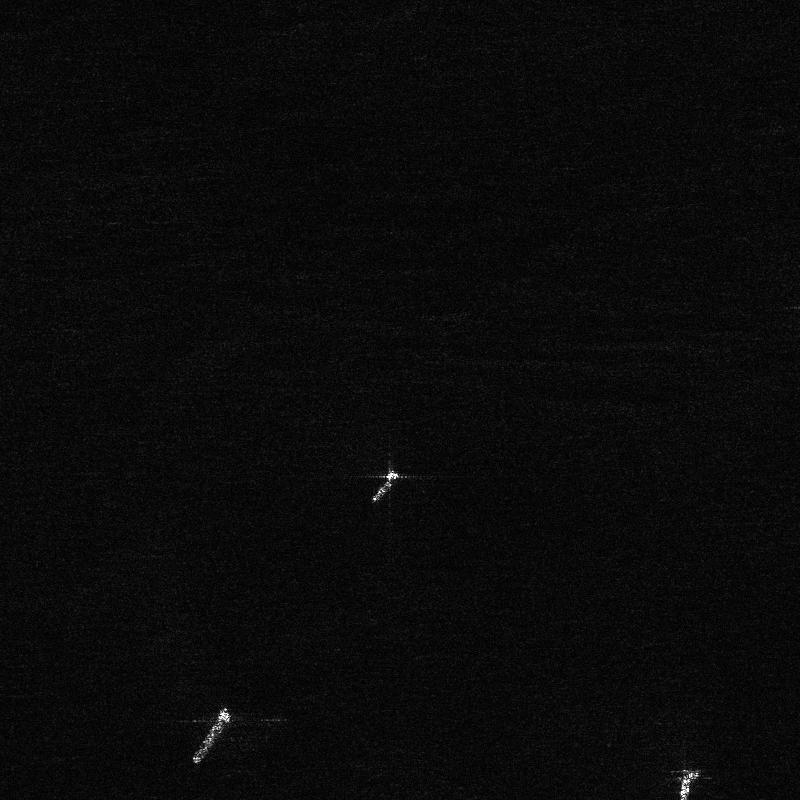ship: (192, 707, 230, 763), (370, 471, 399, 503), (679, 771, 699, 799)
